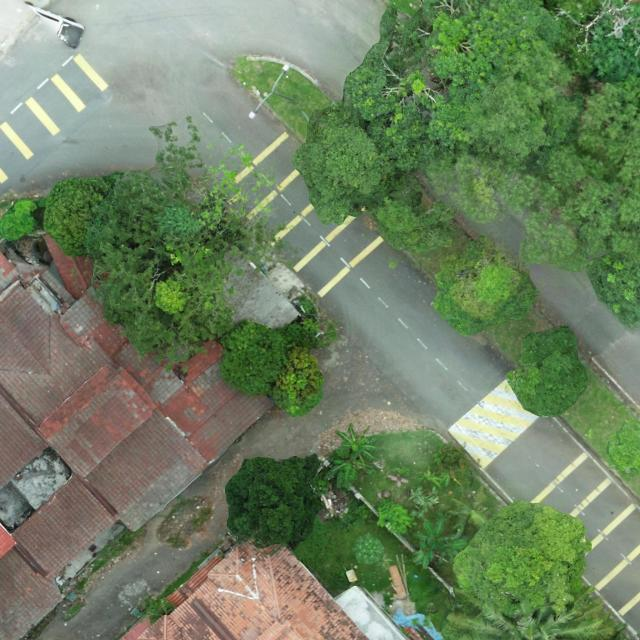Tree: (343, 0, 639, 342), (84, 112, 304, 373), (452, 499, 593, 619), (291, 101, 405, 227), (431, 234, 540, 338), (440, 584, 628, 640), (221, 320, 325, 417), (224, 453, 325, 549), (373, 174, 457, 252), (42, 175, 114, 259), (412, 518, 468, 569), (335, 423, 378, 470), (0, 198, 39, 242), (324, 448, 364, 488), (376, 502, 416, 536), (352, 532, 387, 565), (407, 486, 440, 519)
